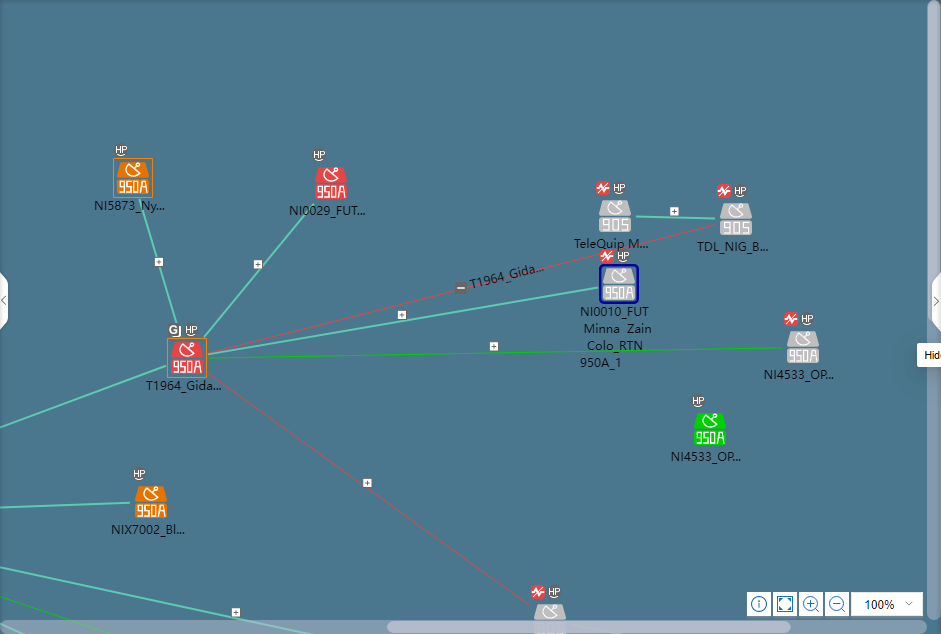Link_Blue: (208, 286, 597, 356), (204, 202, 315, 338), (0, 364, 166, 430), (137, 199, 178, 324), (0, 501, 133, 510), (635, 215, 716, 221)
Link_Green: (208, 345, 785, 360), (0, 595, 114, 634)
Link_Red: (208, 372, 531, 608), (212, 223, 717, 353)
RTN_Gray: (600, 267, 637, 302), (599, 200, 630, 232), (787, 332, 818, 363), (720, 204, 751, 235), (534, 606, 565, 621)
RTN_Green: (694, 414, 725, 445)
RTN_Orange: (115, 160, 152, 194), (135, 487, 166, 519)
RTN_Red: (167, 340, 204, 376), (315, 167, 346, 199)
